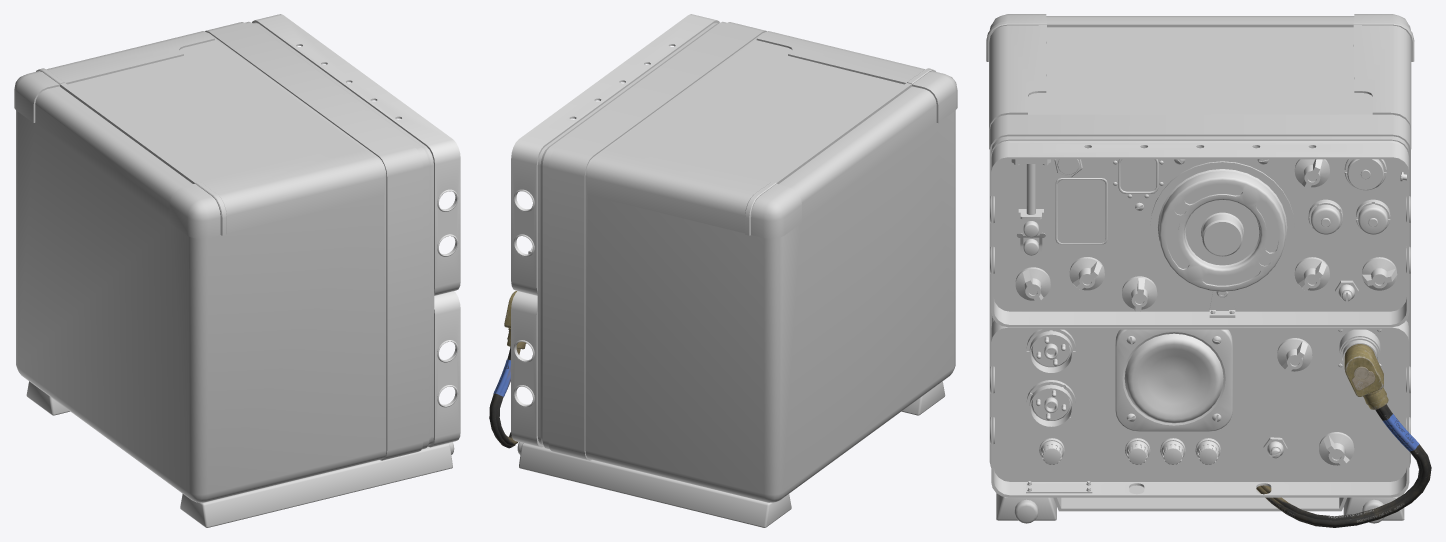
Rendered from Radio2.fbx.
The picture shows the model from 3 angles, left to right: view 1: azimuth 30°, elevation 25°; view 2: azimuth 150°, elevation 25°; view 3: azimuth 270°, elevation 25°; orthographic projection. The views are drawn at different scales.
Visible parts, largest first — view 1: Base_Low.003, Separator_Low.002, Down_Low.001, welding_Low; view 2: Base_Low.003, Separator_Low.002, Down_Low.001, welding_Low, Wire_Low.002; view 3: Separator_Low.002, Base_Low.003, Tuning_Low.001, Audio_Main_Low.001, For_Audio_Low.001, Dno2_Low.002, Paper_Low.002, Wire_Low.002, welding_Low, Down_Low.001, Fuse_Low.001, Band_Low (+23 smaller).
Boxes of the visible parts, x1,y1,x2,y2 form: Base_Low.003: [14, 21, 434, 502]; Separator_Low.002: [252, 14, 460, 447]; Down_Low.001: [26, 381, 452, 527]; welding_Low: [60, 83, 199, 183]; Base_Low.003: [537, 21, 957, 502]; Separator_Low.002: [511, 14, 719, 447]; Down_Low.001: [519, 381, 945, 527]; welding_Low: [772, 83, 911, 183]; Wire_Low.002: [489, 347, 520, 448]; Separator_Low.002: [991, 143, 1409, 497]; Base_Low.003: [986, 14, 1414, 467]; Tuning_Low.001: [1150, 161, 1294, 292]; Audio_Main_Low.001: [1124, 333, 1223, 423]; For_Audio_Low.001: [1115, 329, 1232, 431]; Dno2_Low.002: [1053, 485, 1346, 511]; Paper_Low.002: [1055, 178, 1107, 244]; Wire_Low.002: [1256, 404, 1431, 527]; welding_Low: [1047, 21, 1353, 27]; Down_Low.001: [996, 493, 1404, 520]; Fuse_Low.001: [1125, 438, 1220, 464]; Band_Low: [1118, 159, 1158, 193].
Size of the model in its own units: 225 by 239 by 260.
